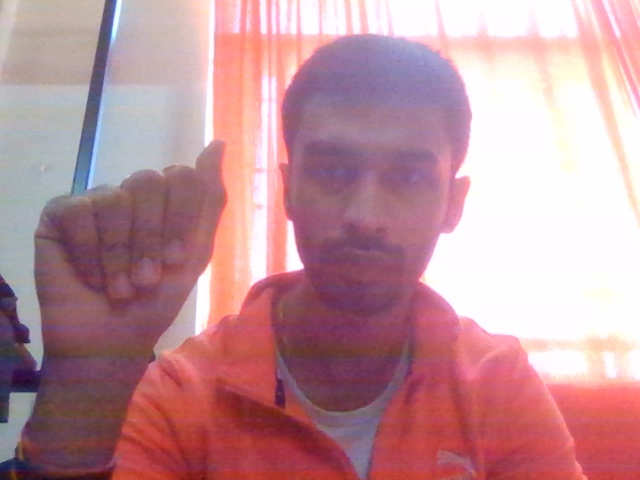A: (27, 135, 245, 396)
